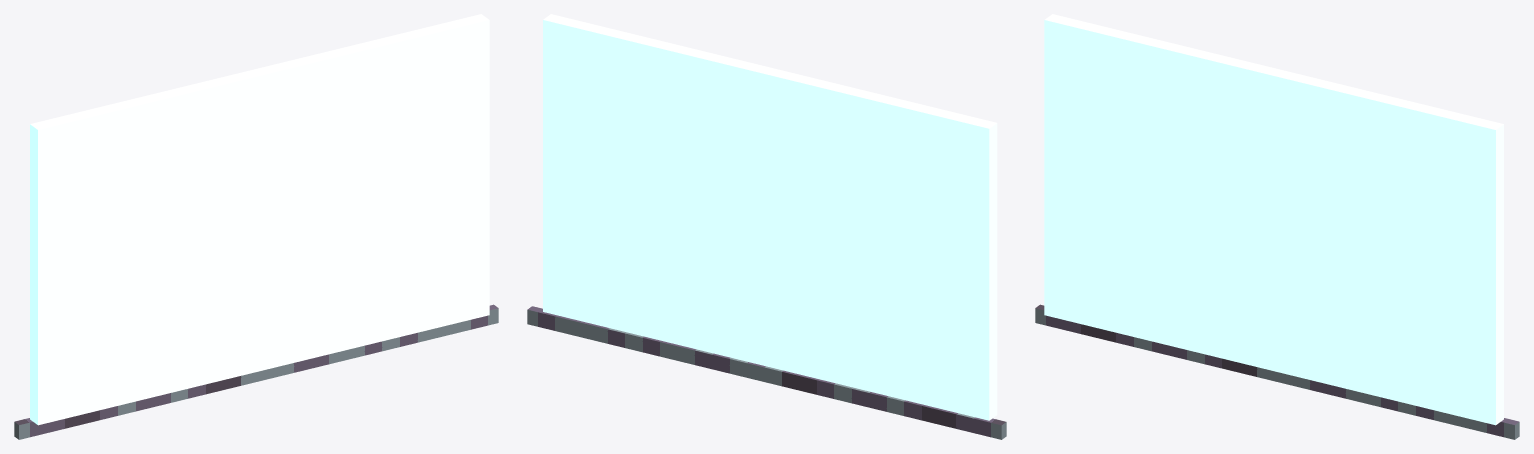
The model's file is r10_janela_sistema.glb.
The picture shows the model from 3 angles, left to right: view 1: azimuth 30°, elevation 25°; view 2: azimuth 150°, elevation 25°; view 3: azimuth 330°, elevation 25°; orthographic projection.
Visible parts, largest first — view 1: r10_janela_sistema; view 2: r10_janela_sistema; view 3: r10_janela_sistema.
Boxes of the visible parts, x1,y1,x2,y2 form: r10_janela_sistema: [14, 14, 498, 439]; r10_janela_sistema: [527, 14, 1006, 439]; r10_janela_sistema: [1035, 14, 1519, 439].
Bounding box in the file's own units: 1.7 × 1.05 × 0.06.
2 materials, 1 textured.
